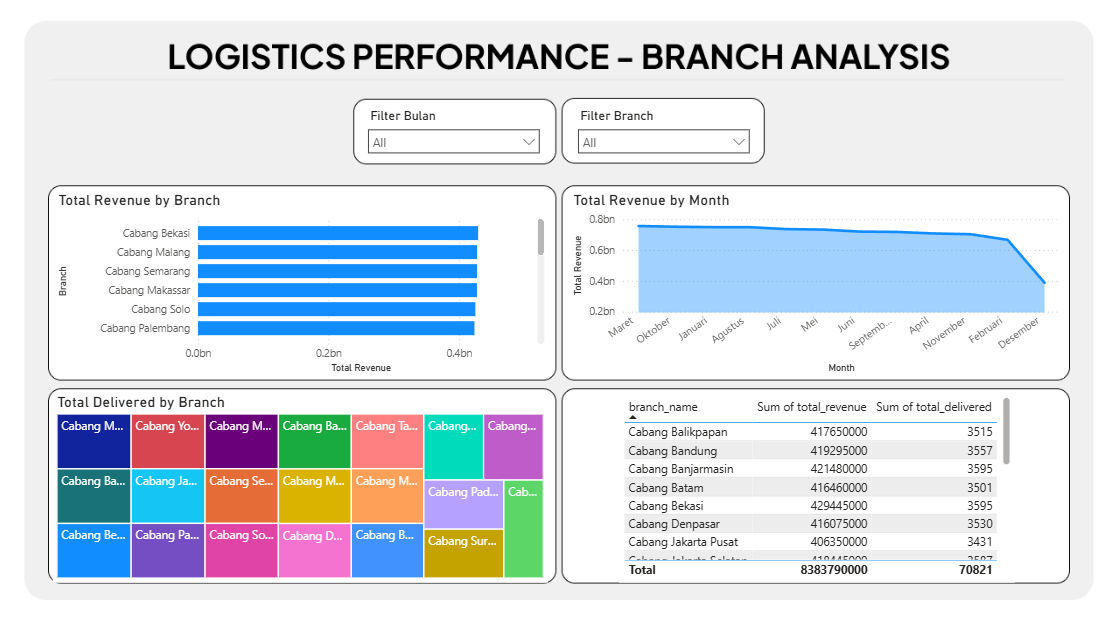

This screenshot's page, from the dashboard's own definition file:
{"tool":"powerbi","page":{"name":"Branch Analysis","canvas":[1280,720],"ordinal":2},"visuals":[{"type":"slicer","fields":{"Values":["dw vw_DeliveryPerformanceSummary.transaction_month"]},"box":[411.1,121.1,216.7,64.4],"z":0},{"type":"slicer","fields":{"Values":["dw vw_BranchRevenue.branch_name"]},"box":[651.1,121.1,216.7,64.4],"z":1000},{"type":"clusteredBarChart","fields":{"Category":["dw vw_BranchRevenue.branch_name"],"Y":["Sum(dw vw_BranchRevenue.total_revenue)"]},"box":[62.2,220,565.6,214.4],"z":2000},{"type":"areaChart","fields":{"Category":["dw vw_BranchRevenue.month_name"],"Y":["Sum(dw vw_BranchRevenue.total_revenue)"]},"box":[651.1,220,565.6,214.4],"z":3000},{"type":"treemap","fields":{"Group":["dw vw_BranchRevenue.branch_name"],"Values":["Sum(dw vw_BranchRevenue.total_delivered)"]},"box":[61.7,451.7,565.8,216.7],"z":4000},{"type":"tableEx","fields":{"Values":["dw vw_BranchRevenue.branch_name","Sum(dw vw_BranchRevenue.total_revenue)","Sum(dw vw_BranchRevenue.total_delivered)"]},"box":[708.9,451.1,452.2,216.7],"z":5000}]}

Visuals, with their boxes in screenshot pixels (x1, y1, x2, y2), scaled from the page's 1280x720 canvas onto the 1117x626 screenshot:
slicer - dw vw_DeliveryPerformanceSummary.transaction_month: [359,105,548,161]
slicer - dw vw_BranchRevenue.branch_name: [568,105,757,161]
clusteredBarChart - dw vw_BranchRevenue.branch_name x Sum(dw vw_BranchRevenue.total_revenue): [54,191,548,378]
areaChart - dw vw_BranchRevenue.month_name x Sum(dw vw_BranchRevenue.total_revenue): [568,191,1062,378]
treemap - dw vw_BranchRevenue.branch_name x Sum(dw vw_BranchRevenue.total_delivered): [54,393,548,581]
tableEx - dw vw_BranchRevenue.branch_name x Sum(dw vw_BranchRevenue.total_revenue): [619,392,1013,581]
